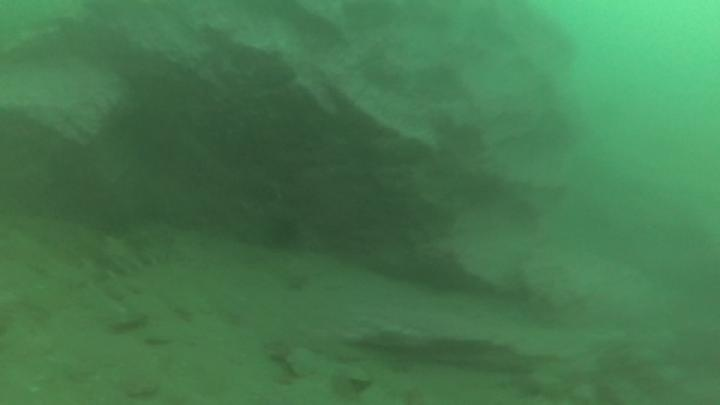holothurian: (62, 226, 181, 290)
